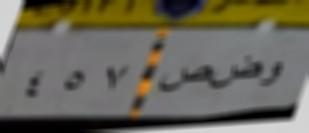4: (23, 65, 57, 105)
5: (62, 63, 88, 98)
7: (100, 57, 136, 99)
daad: (212, 53, 262, 96)
saad: (157, 63, 211, 95)
waw: (263, 60, 289, 88)
